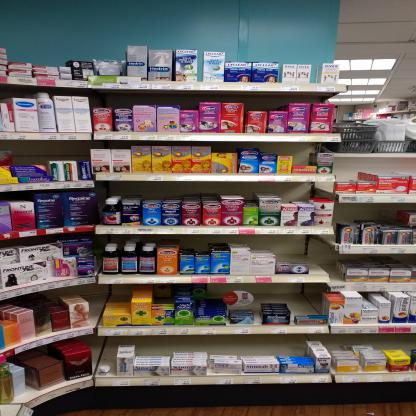Void: (136, 336, 304, 352), (104, 182, 274, 195), (277, 233, 334, 262), (94, 90, 195, 104), (16, 142, 90, 158), (340, 158, 415, 173), (339, 204, 398, 222), (340, 336, 412, 349), (292, 285, 324, 313), (344, 253, 413, 265), (250, 92, 286, 112), (84, 285, 129, 300), (280, 183, 312, 203), (259, 285, 286, 303), (248, 236, 276, 252), (184, 235, 208, 252), (158, 283, 180, 301), (204, 92, 243, 102), (297, 144, 315, 165), (312, 182, 334, 197)
